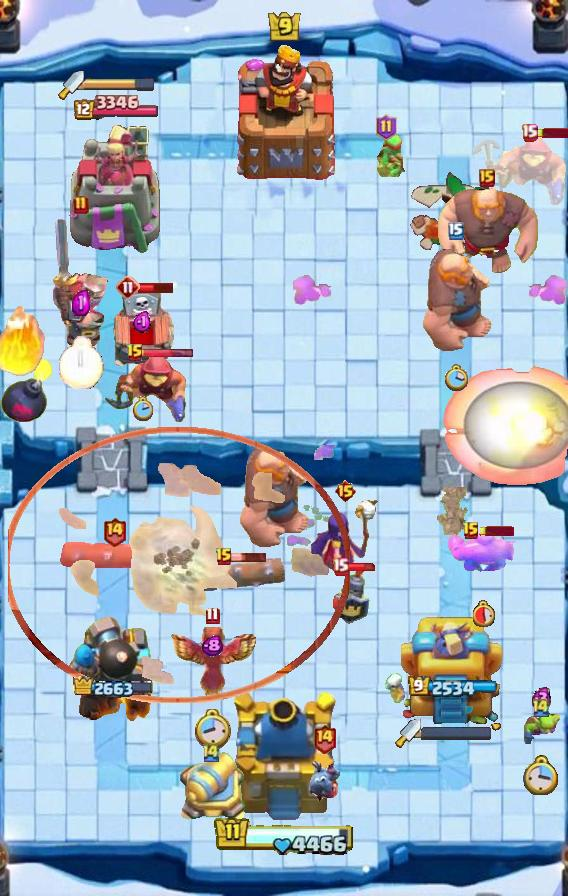axe: (307, 495, 383, 575)
baby-dragon: (0, 356, 54, 424)
balloon: (433, 185, 541, 277), (419, 245, 493, 353), (236, 441, 310, 549)
bar: (67, 122, 161, 256), (401, 611, 505, 731)
clock: (214, 816, 354, 857)
electro-spirit: (531, 686, 552, 711), (201, 635, 223, 657), (72, 290, 90, 316), (132, 311, 152, 333)
elixir: (59, 336, 104, 389), (193, 709, 230, 751), (523, 755, 559, 795), (444, 364, 468, 392), (473, 601, 496, 628), (131, 395, 153, 420)
elixir-golem-mid: (107, 289, 177, 375)
emote: (142, 348, 194, 359), (138, 282, 175, 295), (232, 551, 269, 563), (478, 526, 514, 536), (536, 128, 568, 138), (346, 562, 378, 572)
fireball: (470, 135, 568, 207), (101, 352, 189, 424)
fisherman: (433, 487, 471, 535)
giant-snowball: (365, 133, 407, 177)
golden-knight: (166, 626, 258, 702)
heal-spirit: (383, 673, 407, 703)
king-tower: (227, 692, 341, 826), (230, 43, 338, 181)
king-tower-bar: (84, 77, 156, 91), (421, 726, 493, 740)
minion: (60, 538, 168, 574), (187, 558, 285, 594)
princess: (333, 563, 371, 625)
royal-delivery: (306, 757, 342, 801)
royal-ghost: (8, 427, 350, 703)
royal-recruit: (174, 751, 248, 827)
selected: (70, 95, 157, 122), (408, 676, 498, 700), (73, 676, 155, 700)
text: (312, 723, 337, 754), (101, 517, 126, 547), (116, 275, 140, 299), (335, 479, 358, 503), (375, 114, 396, 140), (531, 698, 551, 719), (201, 742, 221, 763), (126, 343, 144, 363), (462, 521, 480, 541), (215, 547, 233, 567), (522, 122, 539, 141), (332, 556, 349, 575), (73, 195, 89, 215), (479, 169, 495, 187), (448, 222, 464, 240), (204, 607, 219, 625)
tornado: (447, 527, 521, 579)
tower-bar: (64, 615, 164, 731)
valkyrie: (440, 366, 568, 486), (0, 291, 52, 381)
wall-breaker-evolution: (49, 217, 113, 351)
zap: (520, 711, 562, 753)
